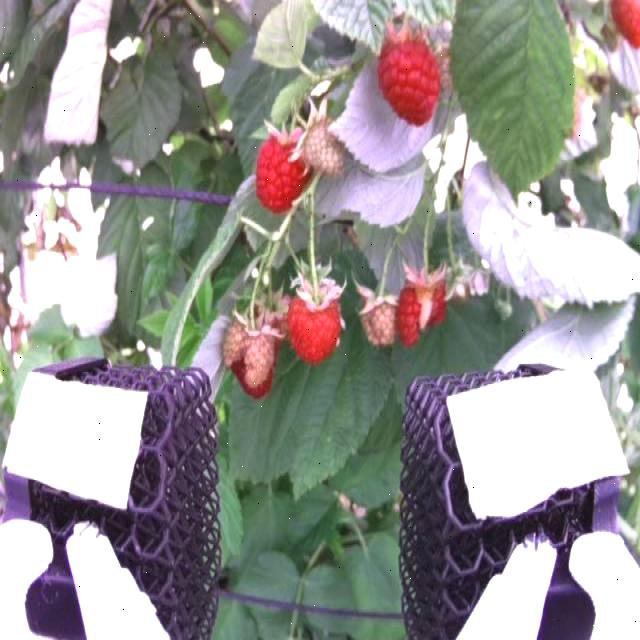Riped berries: (377, 25, 442, 130), (254, 127, 310, 213), (289, 277, 347, 358), (401, 266, 446, 344), (230, 323, 279, 393), (609, 0, 640, 57)
